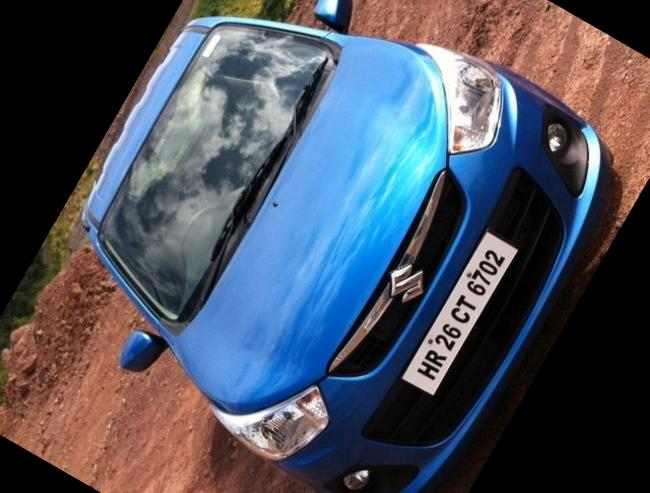plate: (387, 219, 535, 417)
